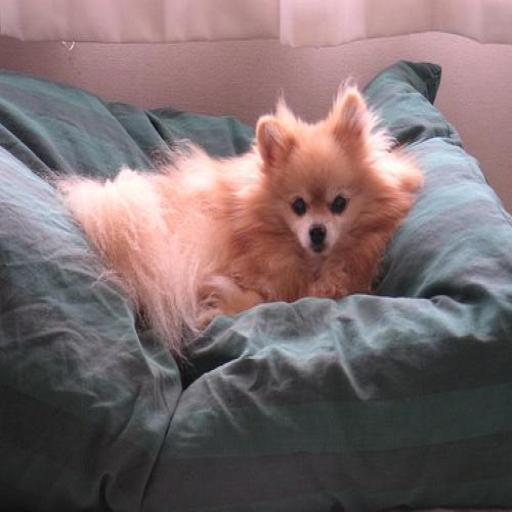dog_face: (245, 97, 383, 254)
